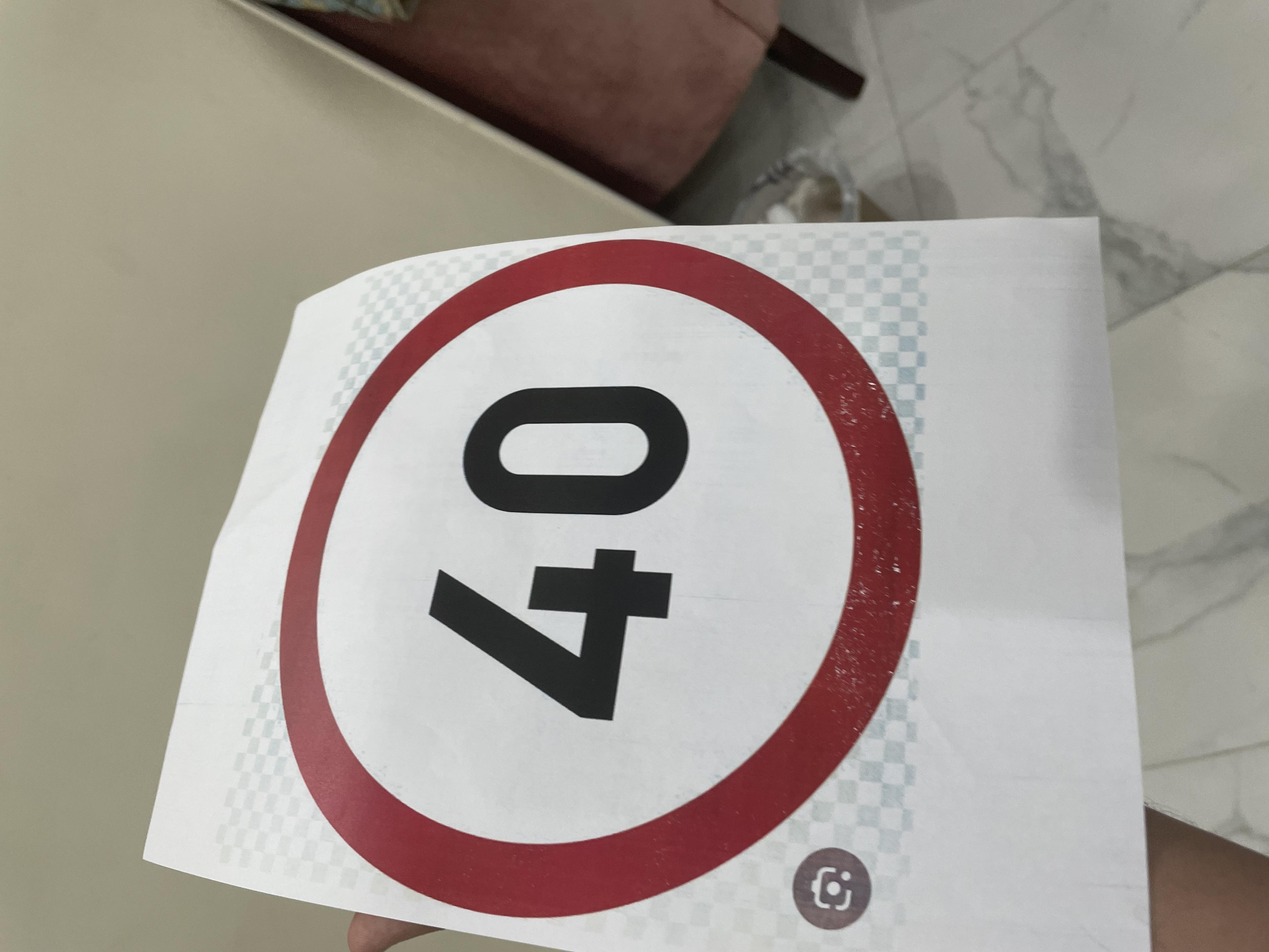40-Speed: (64, 187, 962, 694)
